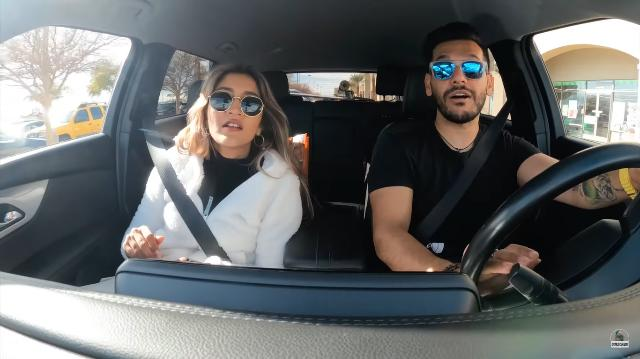seatbelt: (410, 96, 514, 248), (142, 134, 232, 264)
